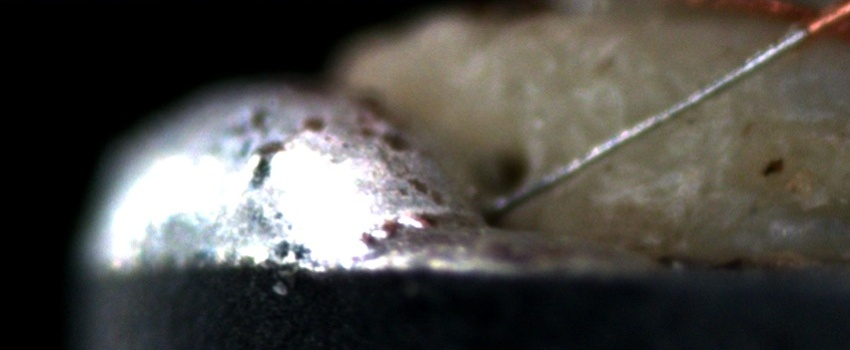DL: (726, 92, 849, 139)
TS: (485, 26, 809, 215)
